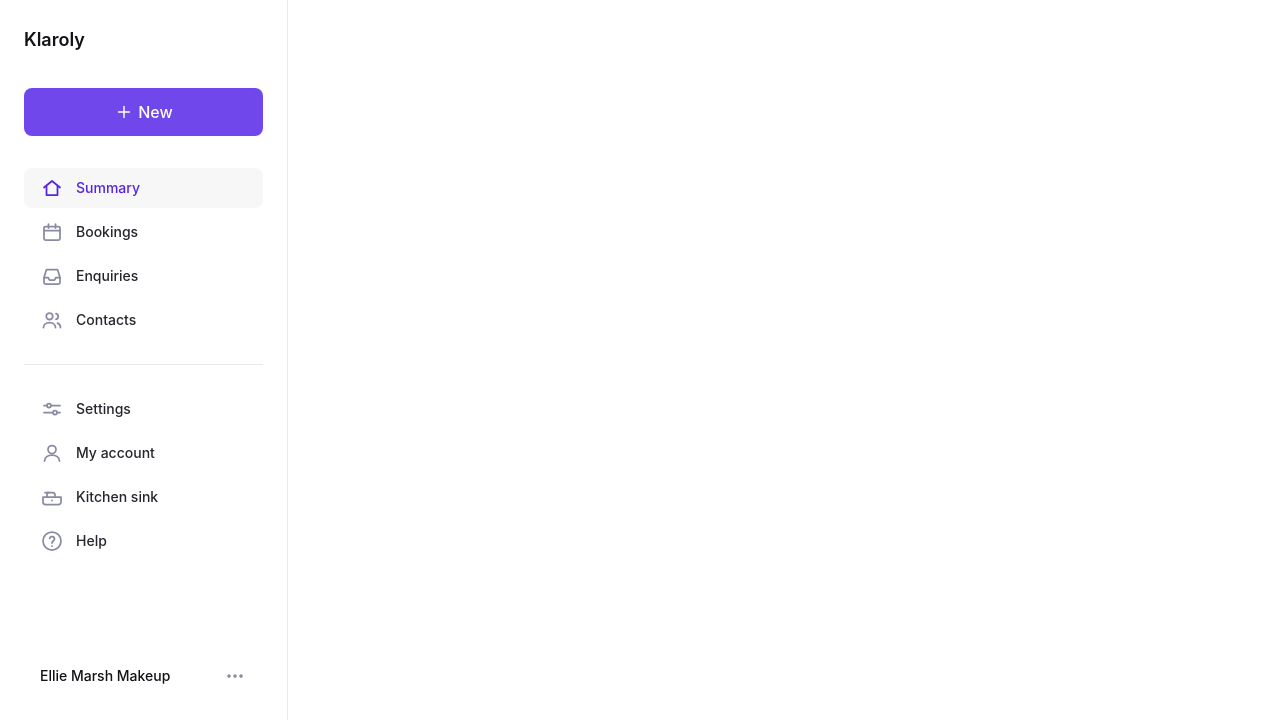
Test: the sidebar › opens the account menu from that row, with the way out in it
The width and height of the screenshot is (1280, 720).
Click the button "Ellie Marsh Makeup". click: {"x": 144, "y": 676}
box: [24, 656, 263, 696]
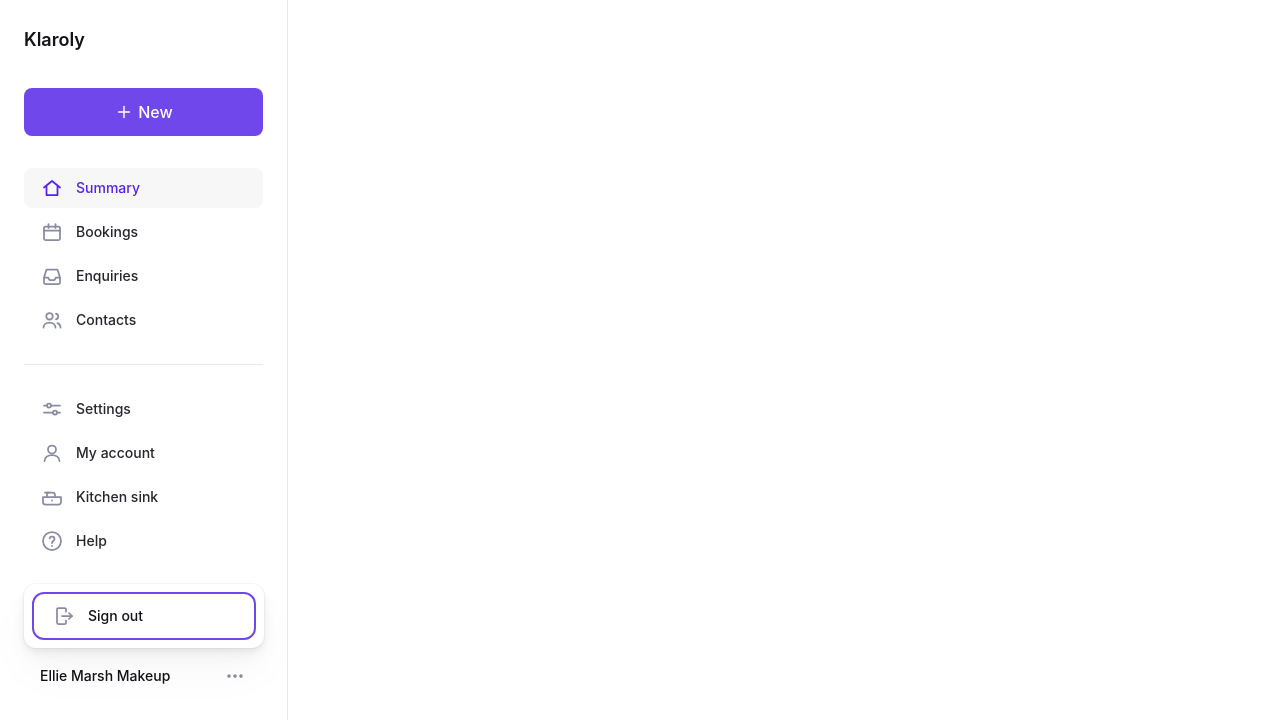
Expected: the dialog reads "Sign out", [36, 596, 252, 636]
